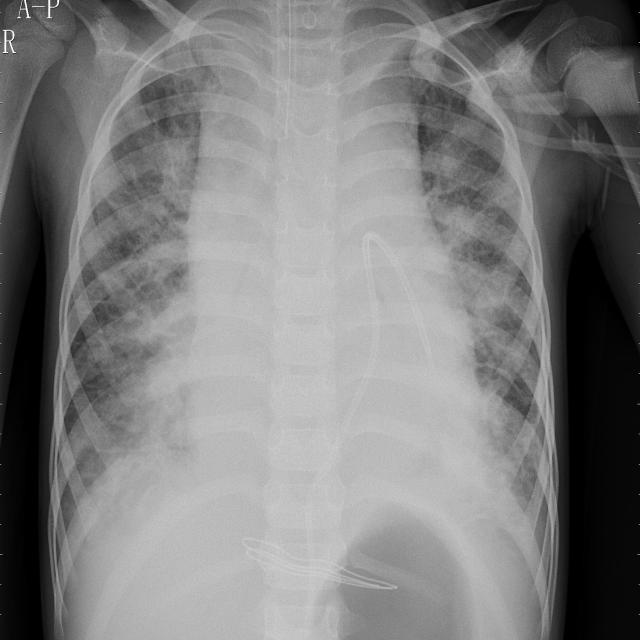low-pneumonia: (85, 154, 190, 480), (429, 150, 525, 385), (488, 391, 552, 536)
